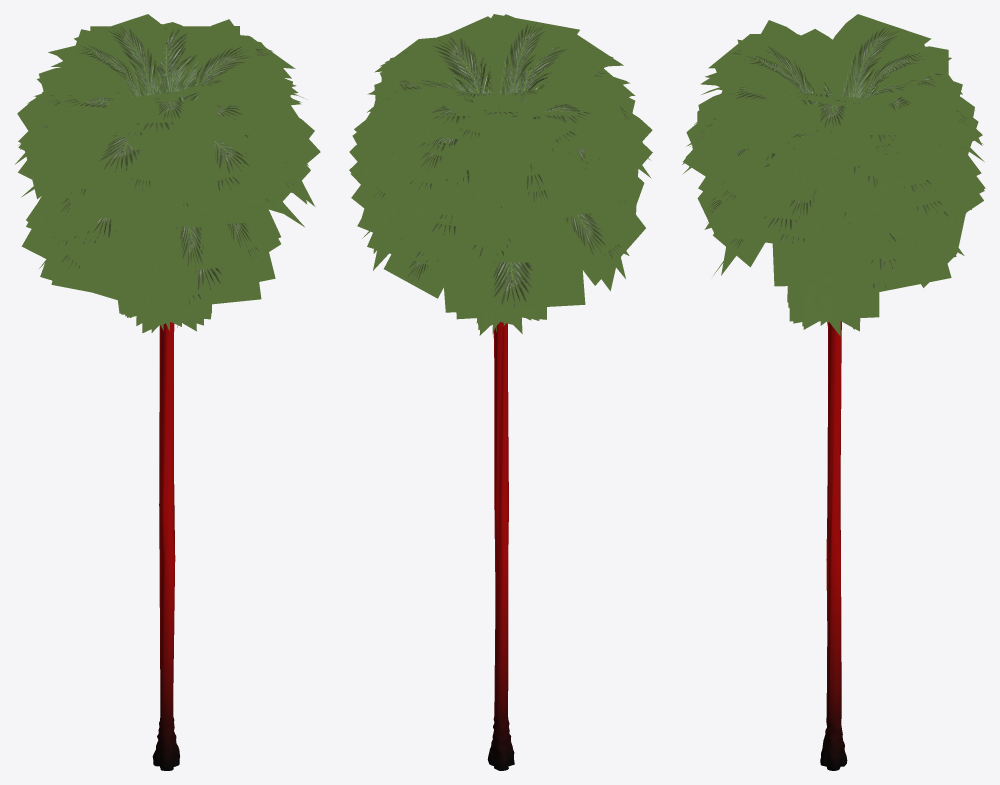
File: Palm_1_17.fbx
3 renders of one model, left to right at view 1: azimuth 30°, elevation 25°; view 2: azimuth 150°, elevation 25°; view 3: azimuth 270°, elevation 25°, orthographic.
Parts seen in each view (by area): view 1: Palm_1_17; view 2: Palm_1_17; view 3: Palm_1_17.
Boxes of the visible parts, x1,y1,x2,y2 form: Palm_1_17: [15, 14, 320, 770]; Palm_1_17: [349, 14, 652, 770]; Palm_1_17: [682, 14, 985, 770].
Bounding box in the file's own units: 1775 × 4533 × 1760.
